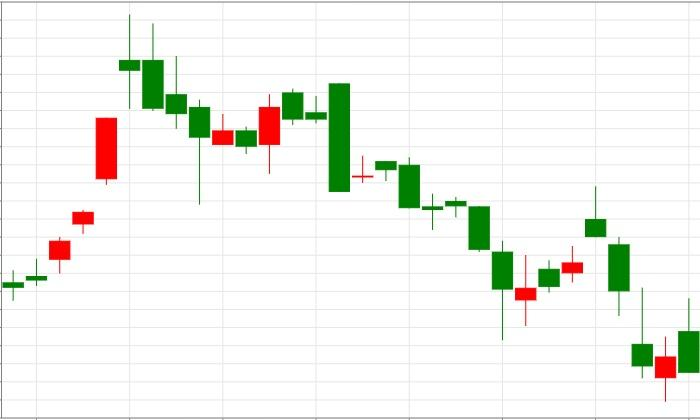bullish_engulfing_rise: (119, 14, 280, 204)
